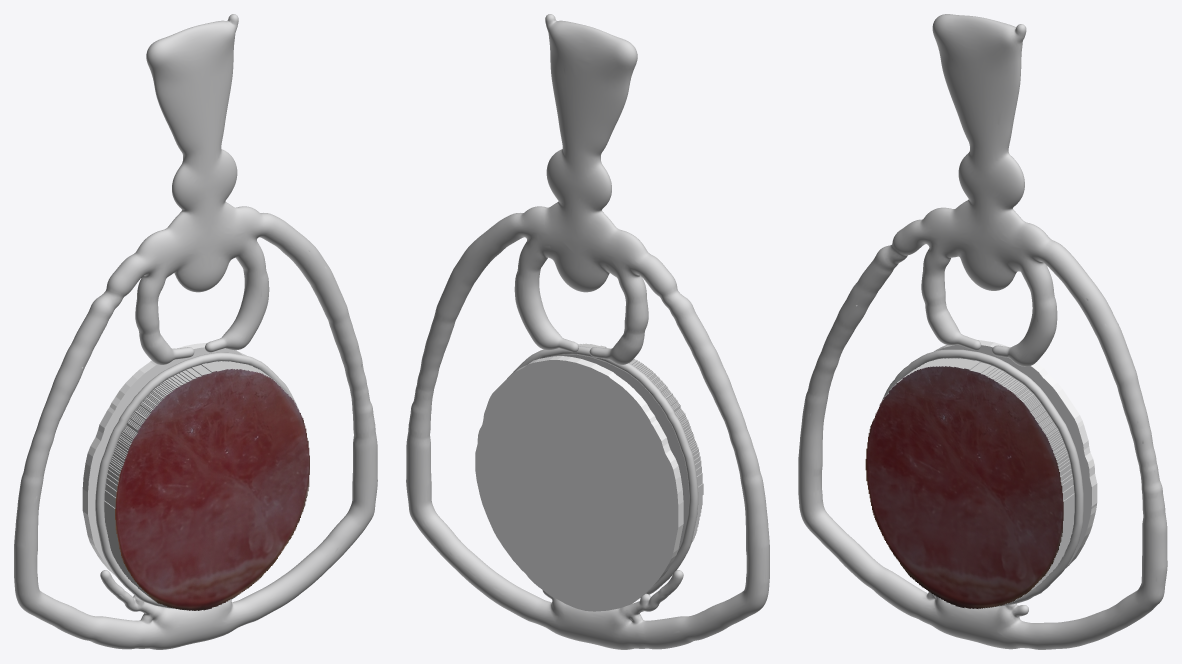
The picture shows the model from 3 angles, left to right: view 1: azimuth 30°, elevation 25°; view 2: azimuth 150°, elevation 25°; view 3: azimuth 330°, elevation 25°; orthographic projection.
Parts seen in each view (by area): view 1: joya; view 2: joya; view 3: joya.
Boxes of the visible parts, x1,y1,x2,y2 form: joya: [14, 14, 377, 649]; joya: [406, 14, 769, 649]; joya: [798, 14, 1167, 649].
Bounding box in the file's own units: 0.0236 × 0.0386 × 0.00325.
Materials: 3 (1 with a texture image).
